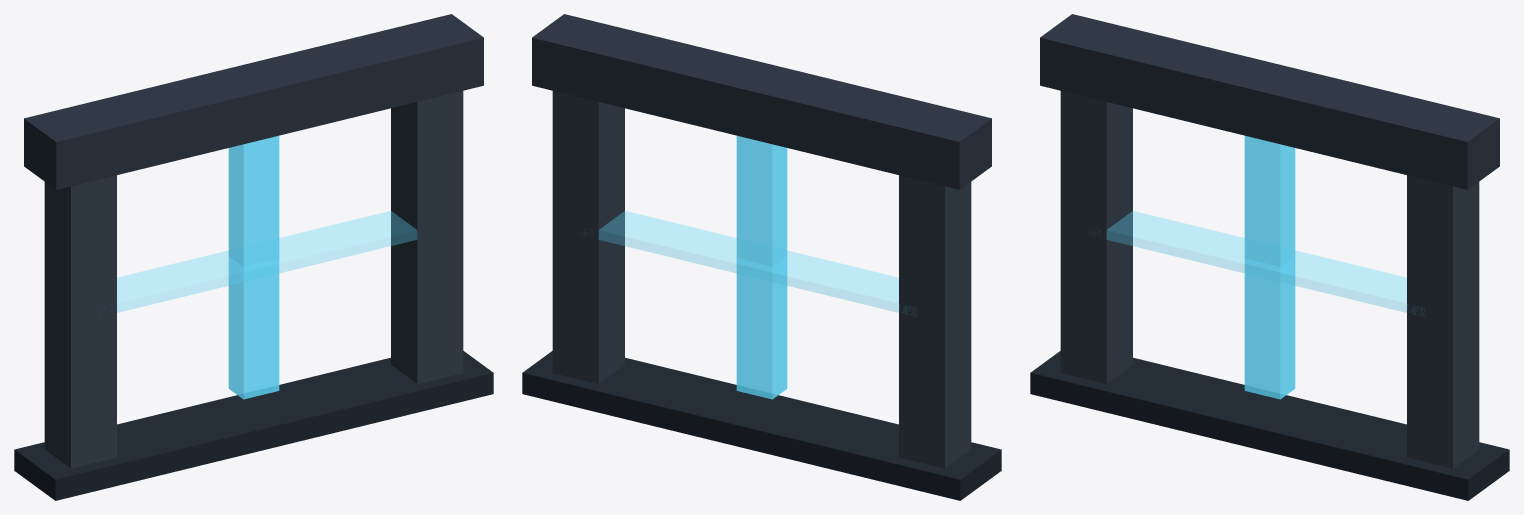
File: device-scanner.glb
The picture shows the model from 3 angles, left to right: view 1: azimuth 30°, elevation 25°; view 2: azimuth 150°, elevation 25°; view 3: azimuth 330°, elevation 25°; orthographic projection.
Visible parts, largest first — view 1: scanner, scan; view 2: scanner, scan; view 3: scanner, scan.
Part boxes in pixels (<box>): scanner: <box>14,14,493,500</box>; scan: <box>117,135,416,399</box>; scanner: <box>522,14,1001,500</box>; scan: <box>598,135,914,399</box>; scanner: <box>1030,14,1509,500</box>; scan: <box>1106,135,1422,399</box>.
Bounding box in the file's own units: 8.6 × 6.65 × 1.4.
